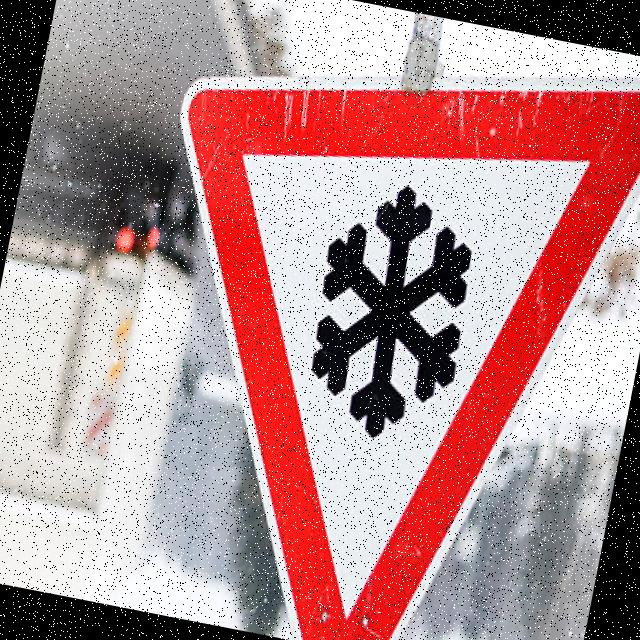snow_warning: (81, 0, 640, 640)
